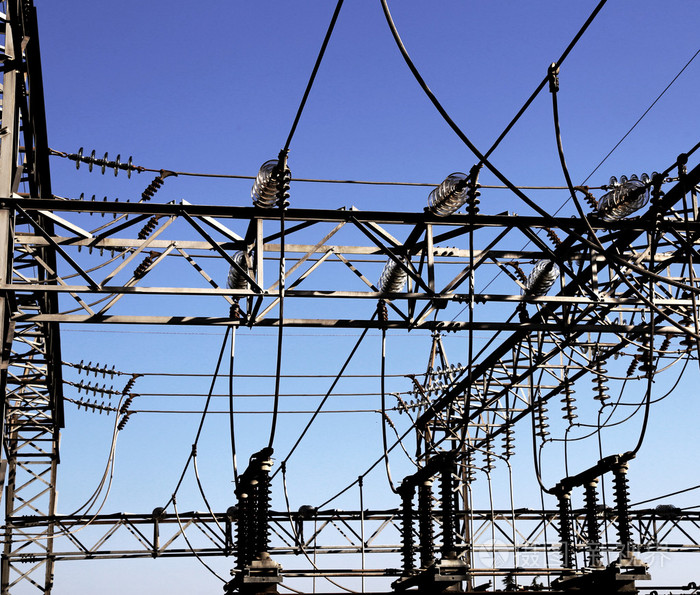insulator: (70, 146, 135, 181), (429, 169, 471, 216), (249, 157, 287, 208), (598, 183, 649, 219), (524, 258, 561, 294), (376, 256, 412, 291), (590, 359, 614, 402), (226, 252, 253, 288), (75, 394, 113, 417), (76, 357, 115, 379), (559, 381, 580, 420), (76, 378, 113, 399), (532, 399, 551, 437), (427, 363, 464, 381), (500, 418, 516, 459), (461, 449, 478, 486), (412, 382, 446, 400), (394, 397, 430, 414), (481, 435, 497, 473)
